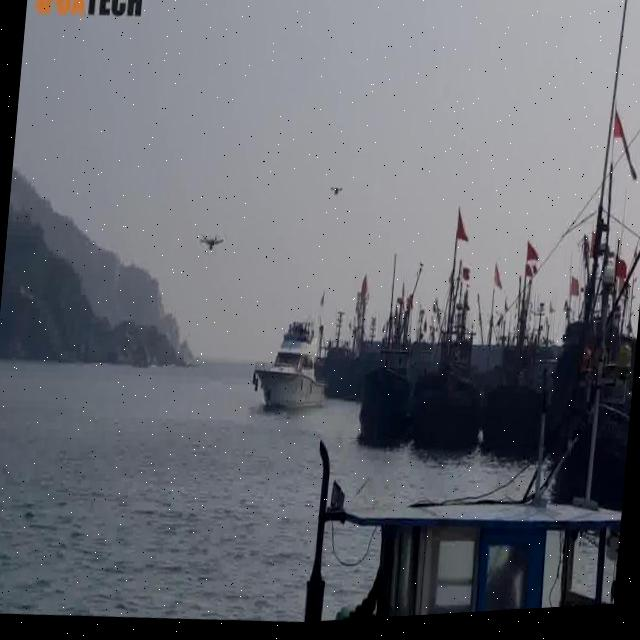drone: (198, 232, 224, 257)
